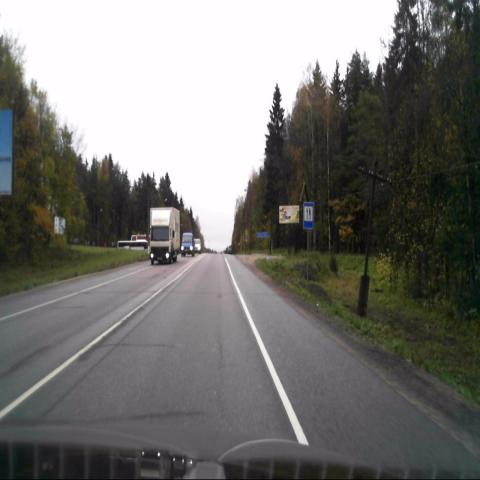7_7: (303, 202, 313, 228)
